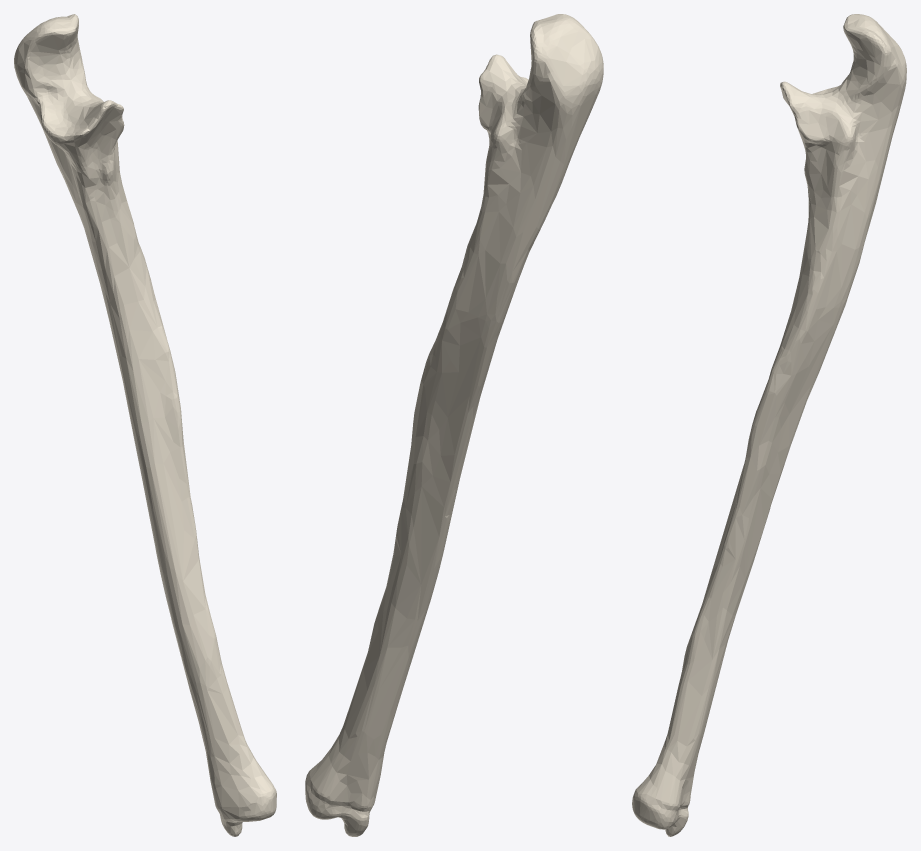
The model's file is left_ulna.glb.
The picture shows the model from 3 angles, left to right: view 1: azimuth 30°, elevation 25°; view 2: azimuth 210°, elevation 25°; view 3: azimuth 270°, elevation 25°; orthographic projection. The views are drawn at different scales.
Parts seen in each view (by area): view 1: left_ulna; view 2: left_ulna; view 3: left_ulna.
Part boxes in pixels (x1=…): left_ulna: x1=14, y1=14, x2=276, y2=836; left_ulna: x1=305, y1=14, x2=603, y2=836; left_ulna: x1=632, y1=14, x2=906, y2=836.
Bounding box in the file's own units: 0.0508 × 0.2476 × 0.0796.
